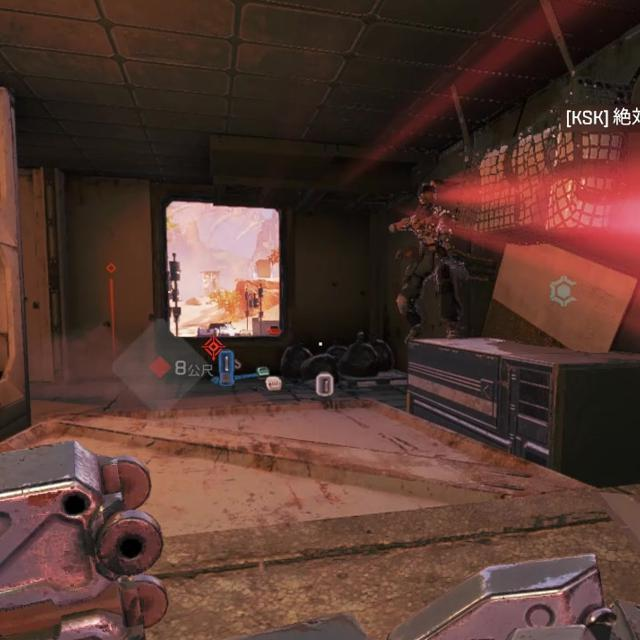avatar: (386, 180, 466, 343)
